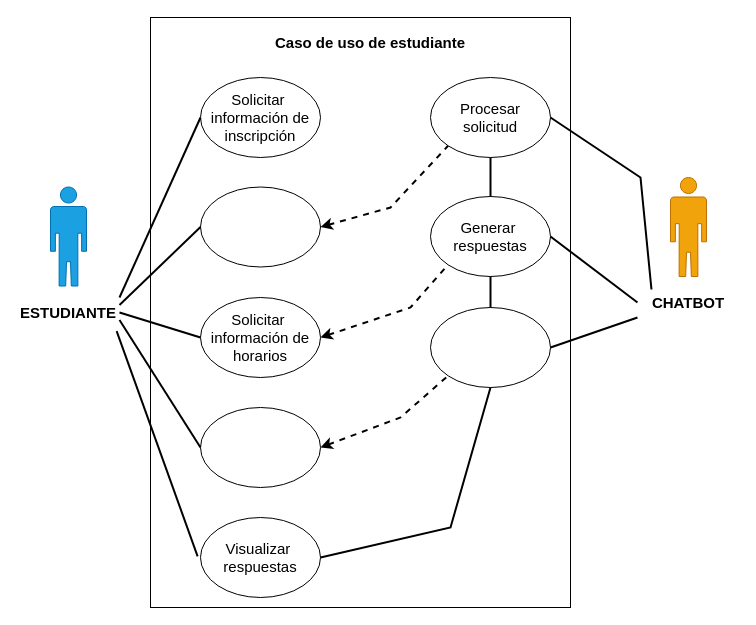
Image size: 756x625. Some labels were removed from this diagram. The centre of each missing label's shape, as x and y in pixels:
"Mostrar respuesta" belongs at pixel 490 347.
"Solicitar información de cursos" belongs at pixel 260 226.
"Solicitar información de fechas" belongs at pixel 260 447.
